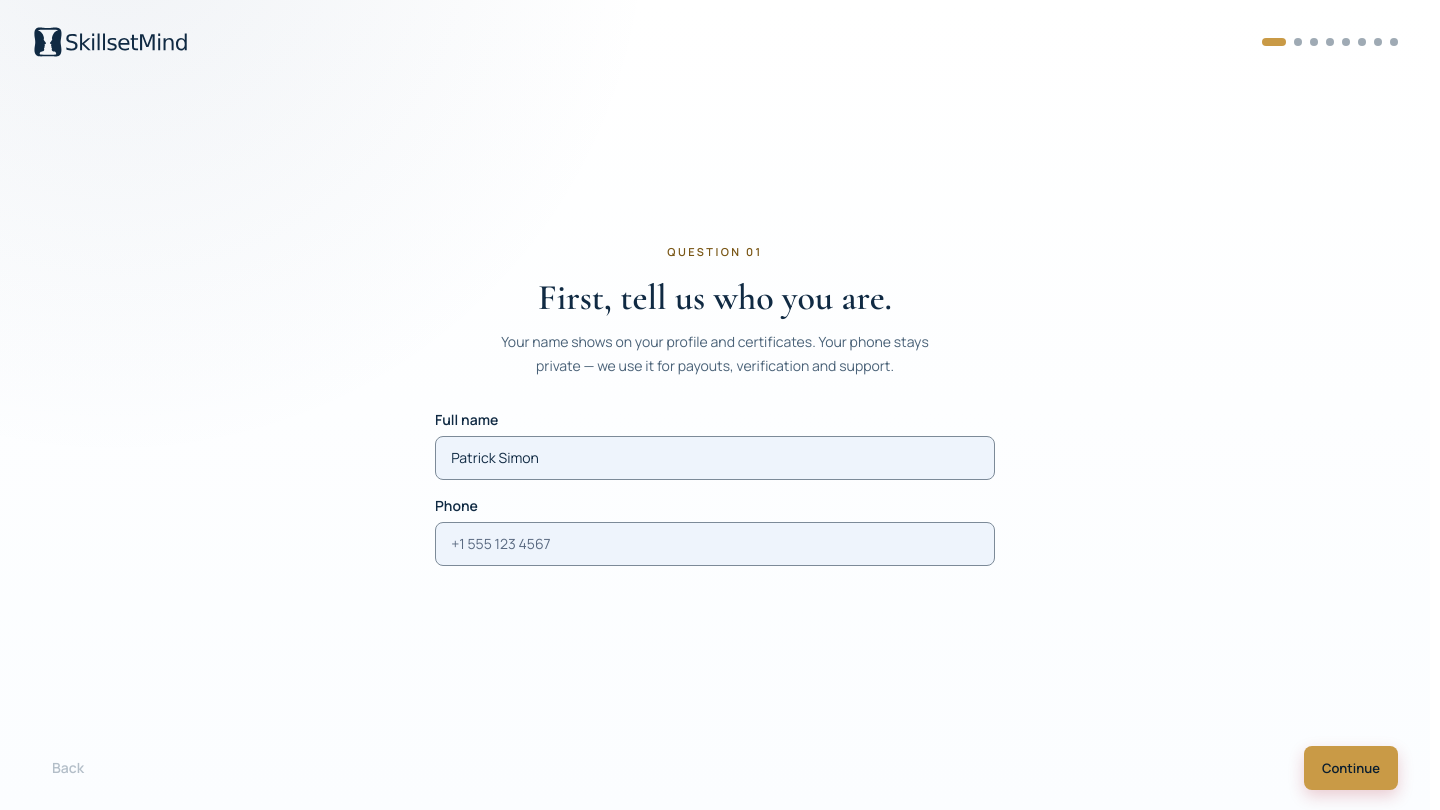
Scenario: boas-vindas: o passo de perfil vem primeiro › com nome e telefone: grava no perfil, marca o passo e segue para o proximo
This screenshot has width=1440, height=810.
Expected: the heading "First, tell us who you are." is shown, [538,276,892,319]
Step 1. Type "+55 (16) 99999-1234" into the field labelled "Phone" → (715, 544), box [435,522,995,566]
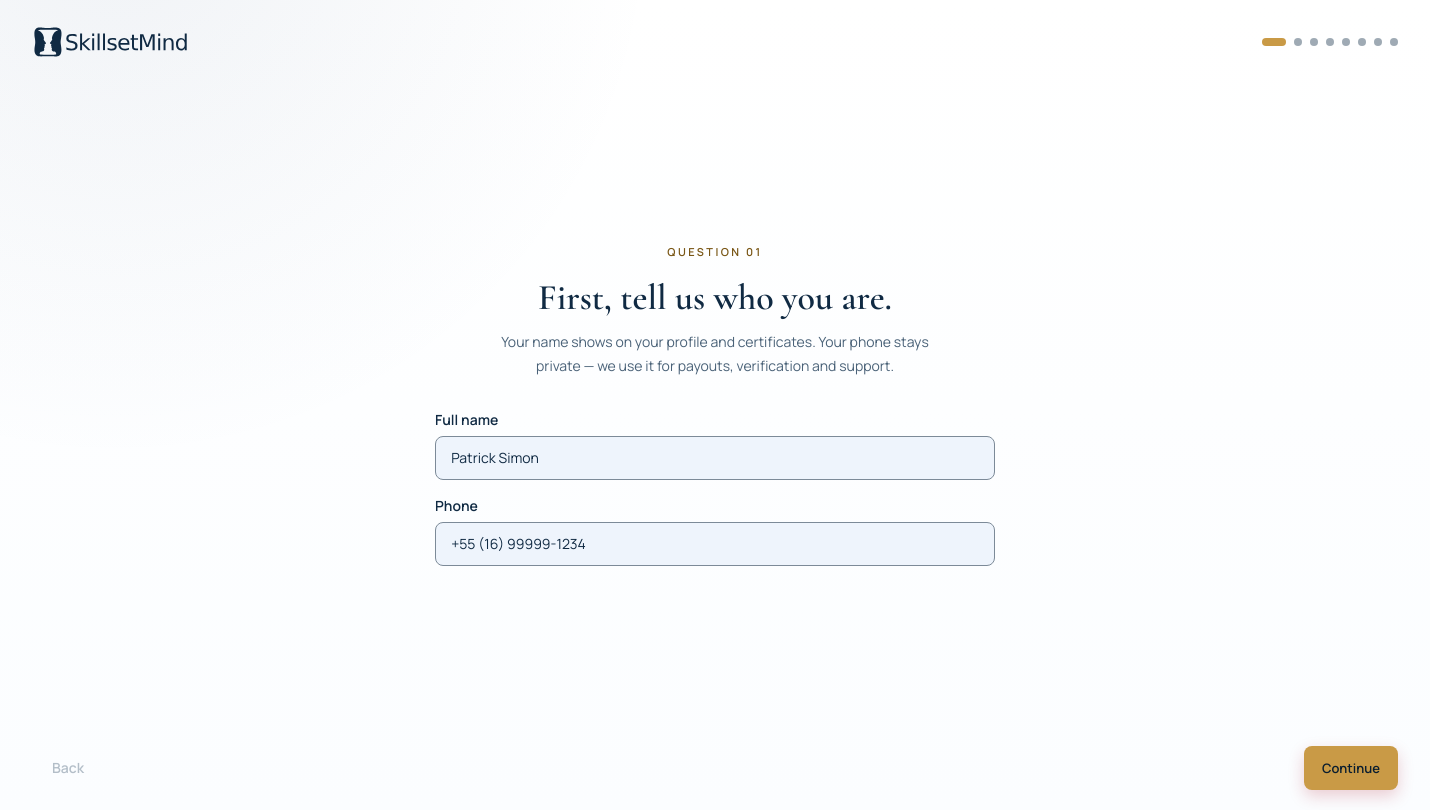
Step 2. Click the button "Continue" → click(1351, 768), box [1304,746,1398,790]
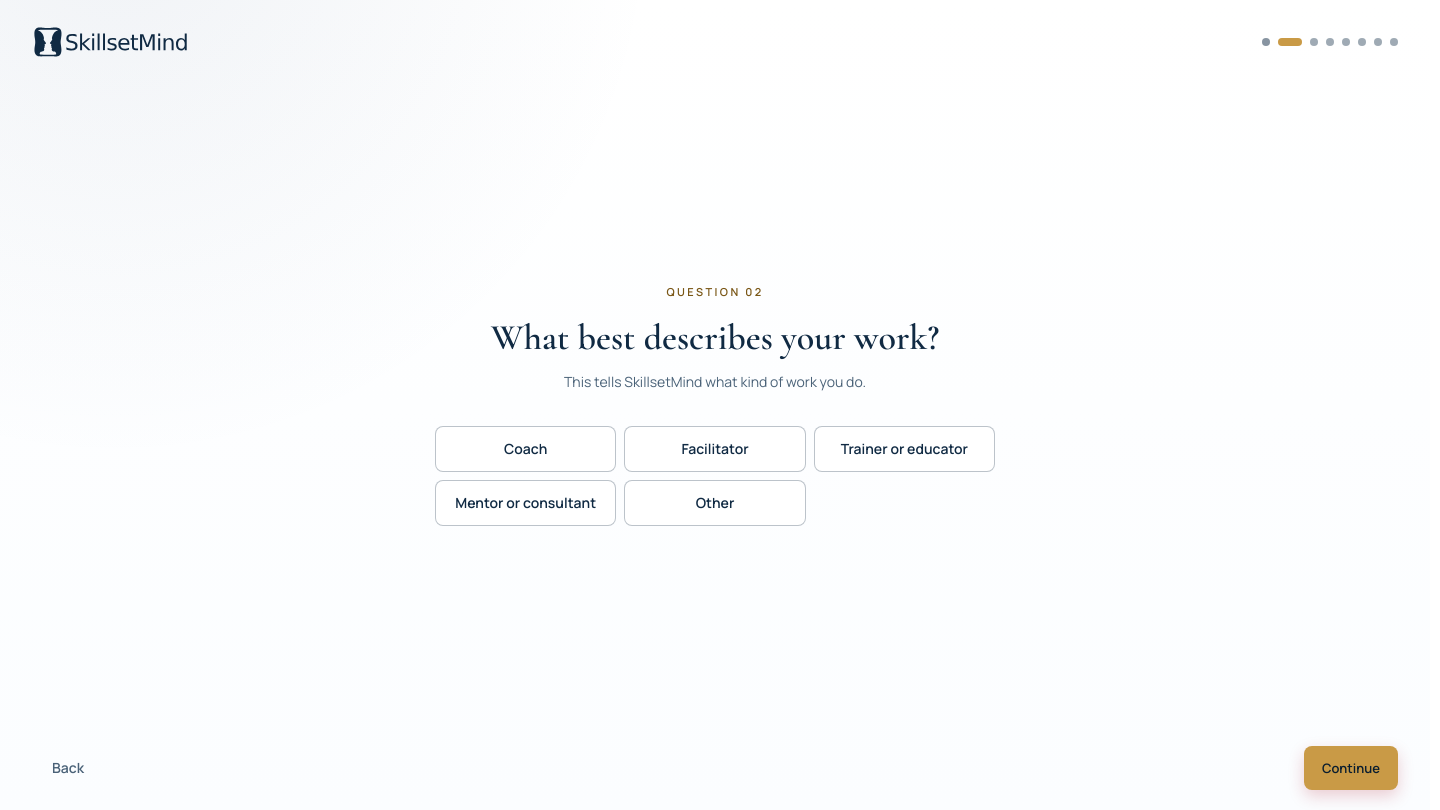
Now the heading "What best describes your work?" is shown, box [491,316,939,358]
